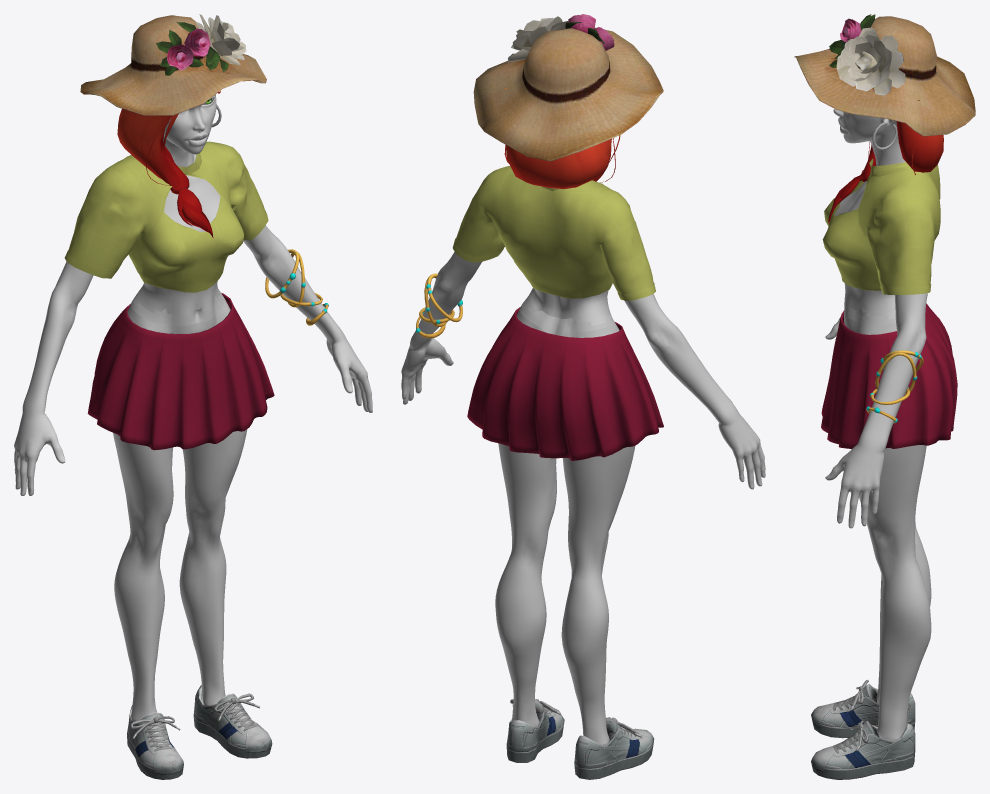
Rendered from Character 4.fbx.
3 renders of one model, left to right at view 1: azimuth 30°, elevation 25°; view 2: azimuth 150°, elevation 25°; view 3: azimuth 270°, elevation 25°, orthographic.
Parts seen in each view (by area): view 1: Skirt, top 3, legs.001, body.002, cap, shoes 5, legs, w hair 7, head, body.001, bracelet.001; view 2: Skirt, cap, legs.001, top 3, body.002, shoes 5, legs, w hair 7, body.001, bracelet.001; view 3: cap, top 3, Skirt, legs.001, body.002, shoes 5, legs, w hair 7, head, body.001, bracelet.001.
Part boxes in pixels (x1=…): Skirt: x1=87, y1=293, x2=274, y2=450; top 3: x1=64, y1=141, x2=268, y2=292; legs.001: x1=113, y1=429, x2=247, y2=637; body.002: x1=14, y1=154, x2=372, y2=495; cap: x1=80, y1=14, x2=266, y2=115; shoes 5: x1=127, y1=685, x2=272, y2=779; legs: x1=123, y1=296, x2=230, y2=720; w hair 7: x1=117, y1=91, x2=220, y2=238; head: x1=163, y1=94, x2=216, y2=167; body.001: x1=132, y1=209, x2=220, y2=314; bracelet.001: x1=265, y1=249, x2=328, y2=325; Skirt: x1=467, y1=307, x2=663, y2=460; cap: x1=473, y1=14, x2=663, y2=161; legs.001: x1=495, y1=443, x2=635, y2=670; top 3: x1=452, y1=166, x2=655, y2=300; body.002: x1=401, y1=232, x2=765, y2=489; shoes 5: x1=506, y1=699, x2=654, y2=779; legs: x1=503, y1=309, x2=619, y2=748; w hair 7: x1=504, y1=88, x2=620, y2=189; body.001: x1=522, y1=288, x2=610, y2=325; bracelet.001: x1=416, y1=273, x2=462, y2=338; cap: x1=794, y1=14, x2=975, y2=136; top 3: x1=822, y1=158, x2=940, y2=294; Skirt: x1=821, y1=303, x2=957, y2=448; legs.001: x1=851, y1=445, x2=931, y2=656; body.002: x1=825, y1=181, x2=927, y2=528; shoes 5: x1=811, y1=679, x2=915, y2=779; legs: x1=844, y1=306, x2=924, y2=740; w hair 7: x1=828, y1=100, x2=943, y2=223; head: x1=833, y1=109, x2=905, y2=165; body.001: x1=834, y1=192, x2=895, y2=319; bracelet.001: x1=866, y1=350, x2=923, y2=423.
Bounding box in the file's own units: 96.47 × 193 × 43.33.
